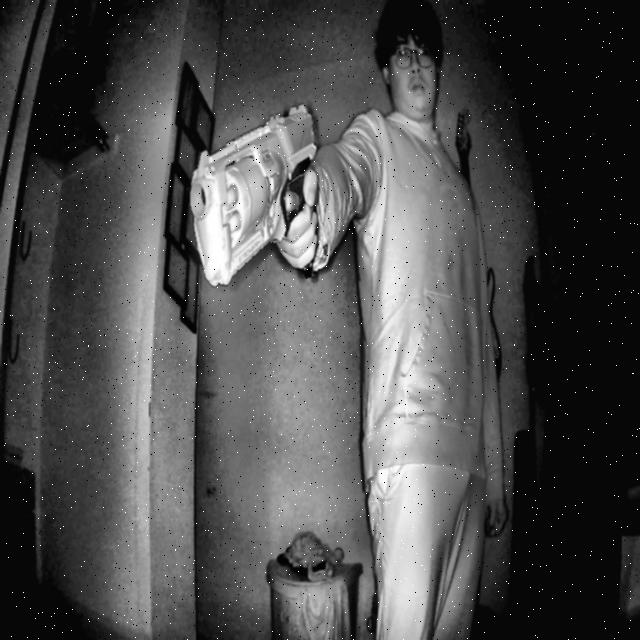Nerf_Blaster: (183, 75, 347, 322)
